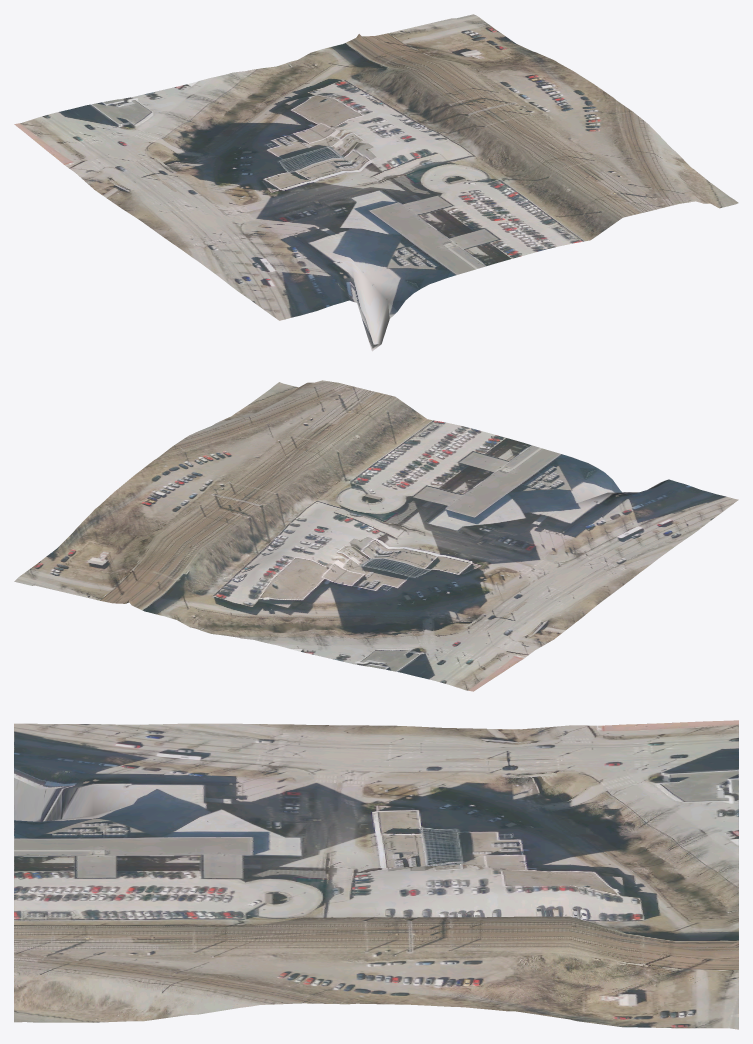
Rendered from CM_Terrain_24487797_6819999.fbx.
3 renders of one model, top to bottom at view 1: azimuth 30°, elevation 25°; view 2: azimuth 150°, elevation 25°; view 3: azimuth 270°, elevation 25°, orthographic. The views are drawn at different scales.
Parts seen in each view (by area): view 1: CM_Terrain_24487797_6819999_LOD0; view 2: CM_Terrain_24487797_6819999_LOD0; view 3: CM_Terrain_24487797_6819999_LOD0.
Boxes of the visible parts, <box> form: CM_Terrain_24487797_6819999_LOD0: <box>14,14,738,351</box>; CM_Terrain_24487797_6819999_LOD0: <box>14,380,738,691</box>; CM_Terrain_24487797_6819999_LOD0: <box>14,720,738,1029</box>.
Size of what is drawn, in the model's own units: 205 by 35.18 by 205.
